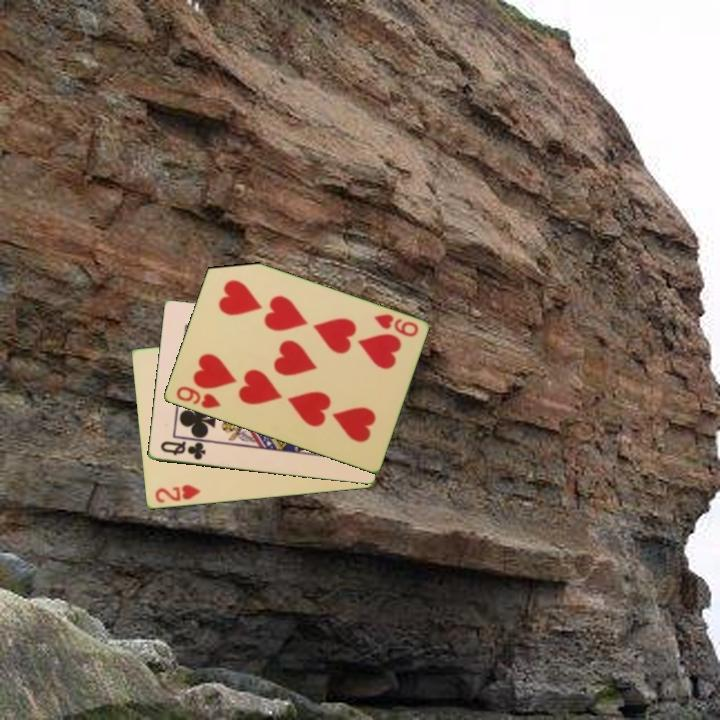2h: (151, 481, 204, 506)
9h: (172, 383, 223, 412), (370, 311, 421, 340)
Qc: (157, 438, 208, 463)
